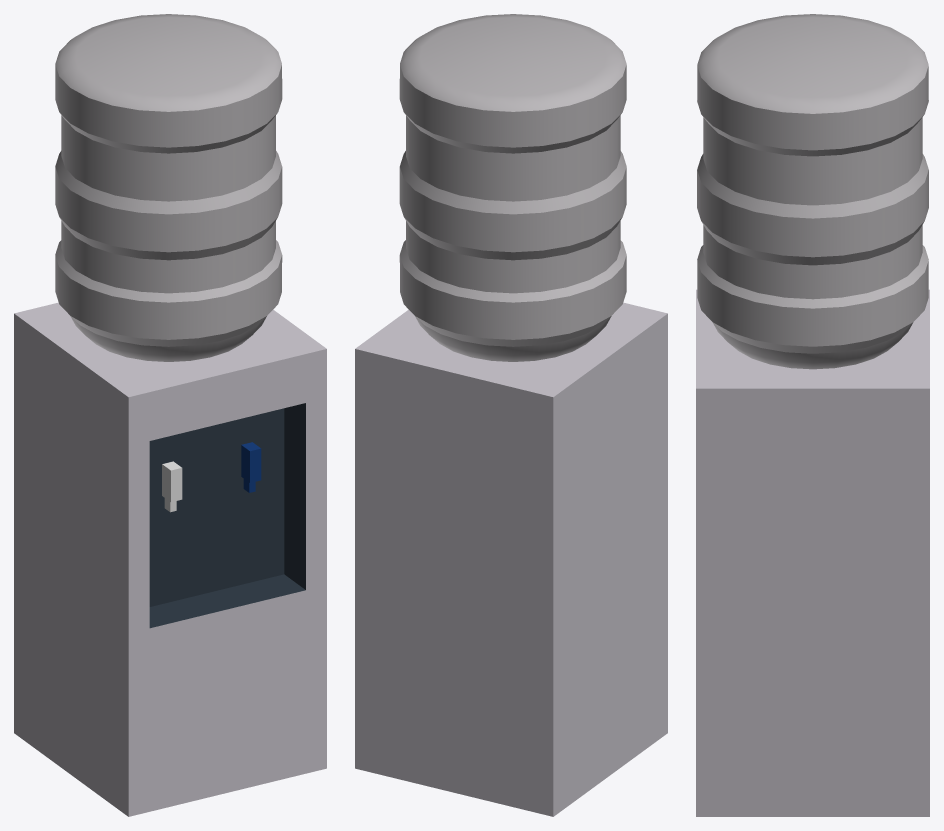
File: scene_waterDespencer.fbx
3 views of the same model, side by side, from view 1: azimuth 30°, elevation 25°; view 2: azimuth 150°, elevation 25°; view 3: azimuth 270°, elevation 25° (orthographic). The views are drawn at different scales.
Visible parts, largest first — view 1: water despencer; view 2: water despencer; view 3: water despencer.
Boxes of the visible parts, x1=… form: water despencer: x1=14, y1=14, x2=326, y2=816; water despencer: x1=355, y1=14, x2=667, y2=816; water despencer: x1=696, y1=14, x2=929, y2=816.
Bounding box in the file's own units: 56.9 × 191 × 56.66.
